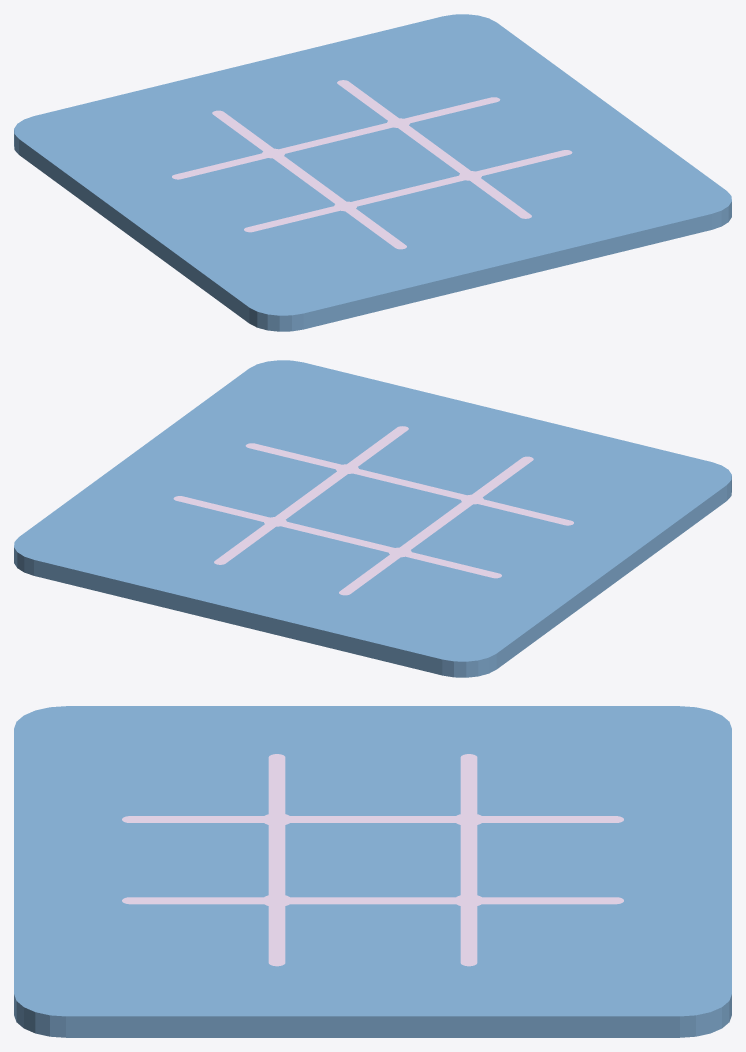
The model's file is tictactoee.fbx.
The picture shows the model from 3 angles, top to bottom: view 1: azimuth 30°, elevation 25°; view 2: azimuth 150°, elevation 25°; view 3: azimuth 270°, elevation 25°; orthographic projection. The views are drawn at different scales.
Visible parts, largest first — view 1: Cube, Curve; view 2: Cube, Curve; view 3: Cube, Curve.
Part boxes in pixels (x1,y1,x2,y2): Cube: (14, 14, 731, 331); Curve: (172, 80, 572, 249); Cube: (14, 360, 731, 677); Curve: (173, 426, 573, 595); Cube: (14, 706, 731, 1037); Curve: (122, 754, 623, 966).
Size of the model in its own units: 190 by 6.27 by 186.
